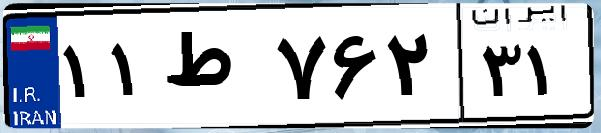1: (57, 26, 110, 100), (525, 38, 570, 115), (110, 28, 158, 98)
2: (385, 28, 445, 110)
3: (475, 38, 525, 113)
6: (330, 28, 385, 110)
7: (270, 28, 330, 110)
ط: (158, 20, 270, 120)
